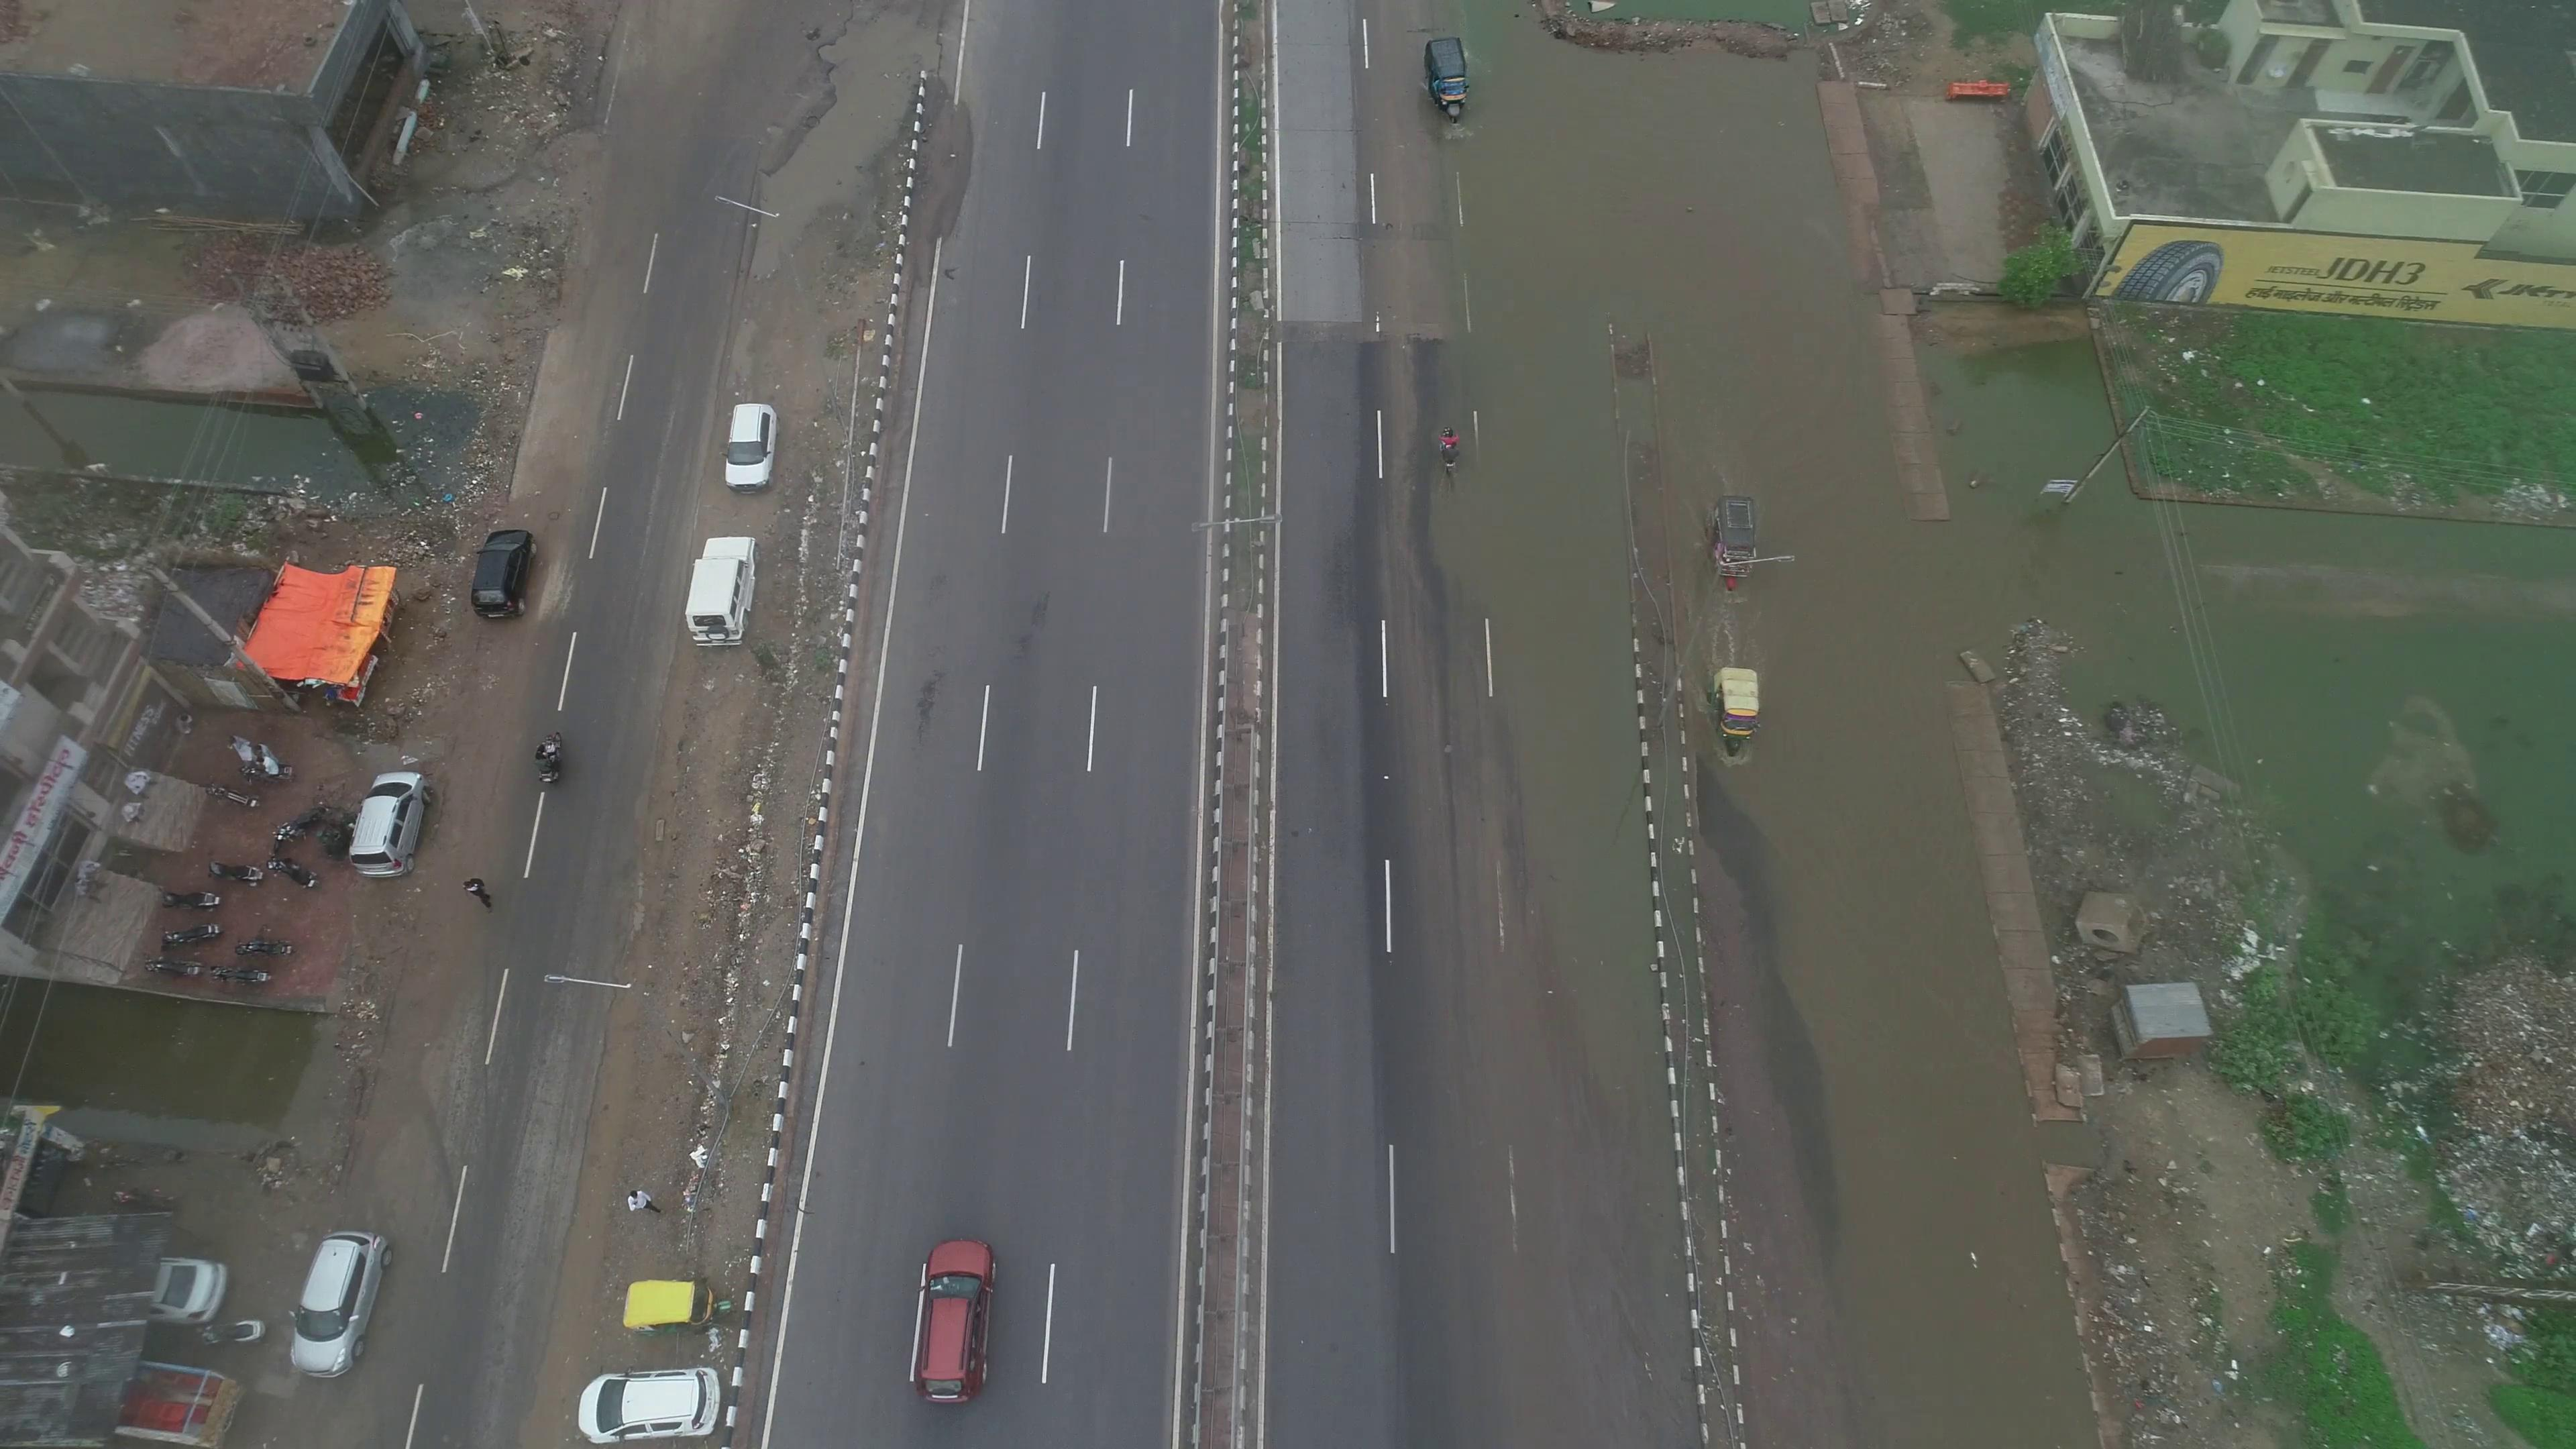Waterlogging: (1677, 577, 1997, 1297), (1509, 16, 1886, 550), (1424, 226, 1668, 902)
